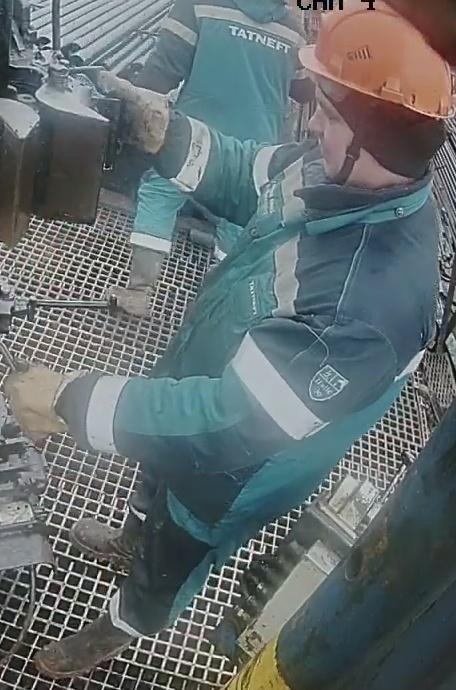gloves: (0, 356, 108, 446), (97, 75, 197, 170)
helmet: (296, 2, 455, 119)
vest: (179, 151, 440, 520), (166, 1, 310, 227)
